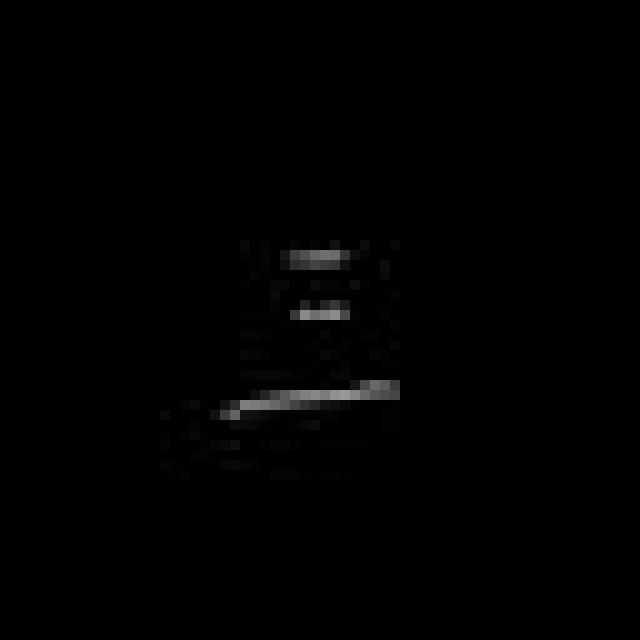3 -three-: (198, 233, 411, 440)
